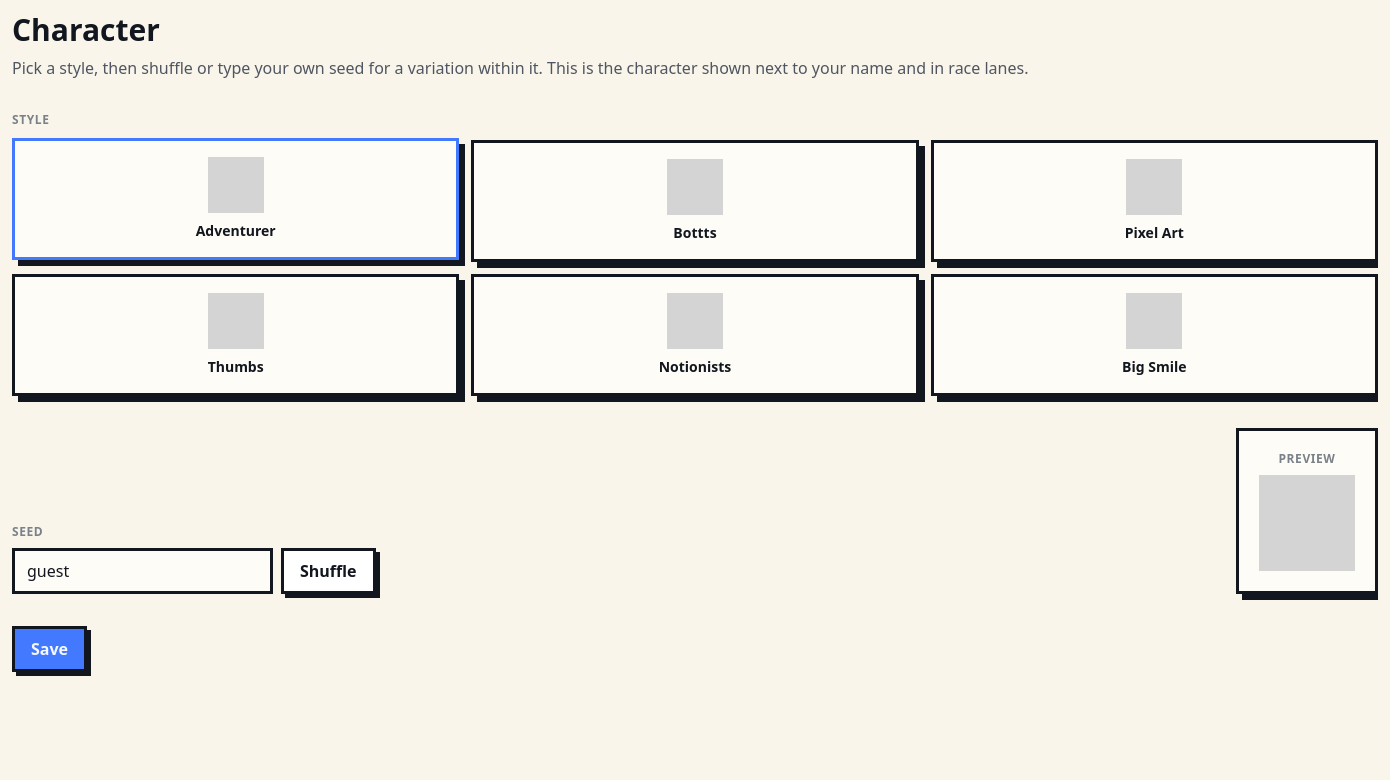
Test: CharacterPage › shuffle changes the seed input value without changing the style
Click the button "Shuffle".
click(328, 571)  # box [281,548,376,594]
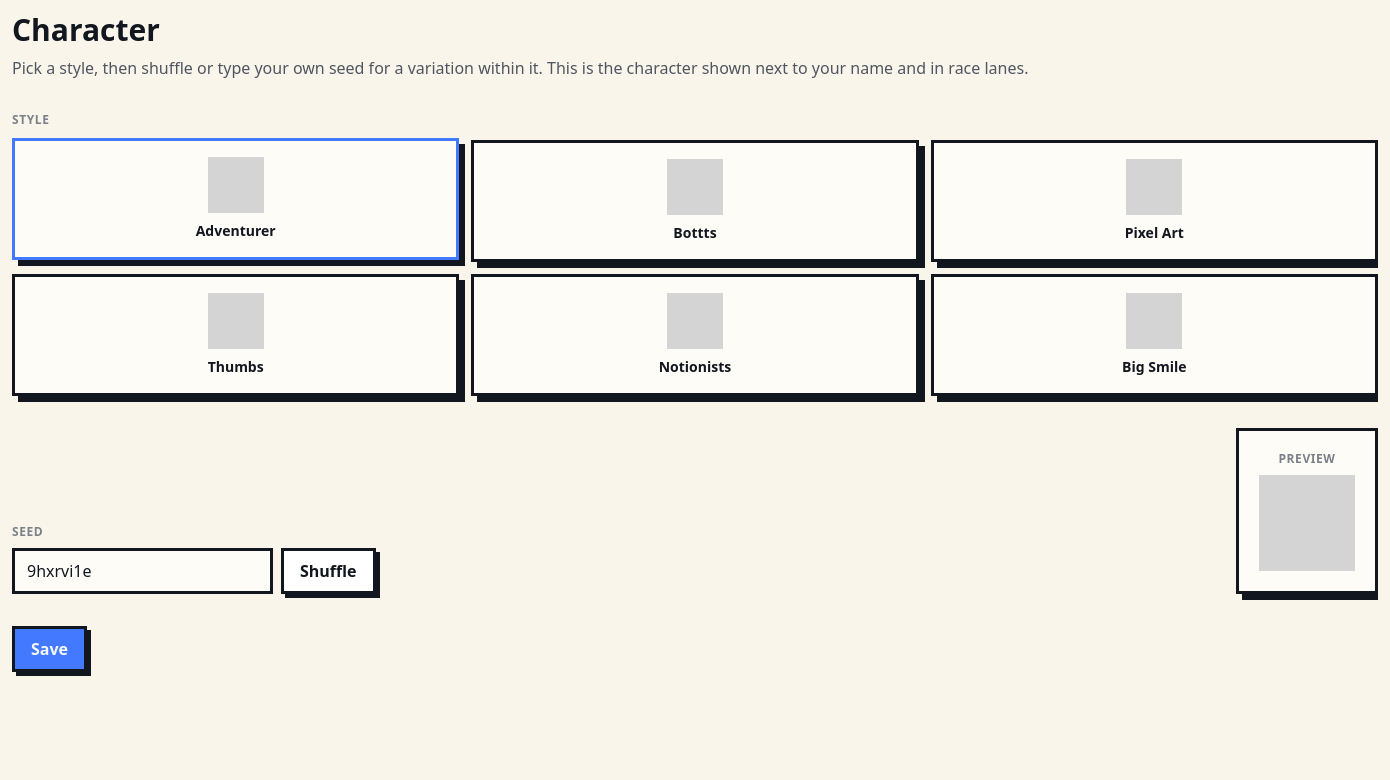
Check: the field labelled "Seed" does not hold "guest", box [12,548,273,594]
